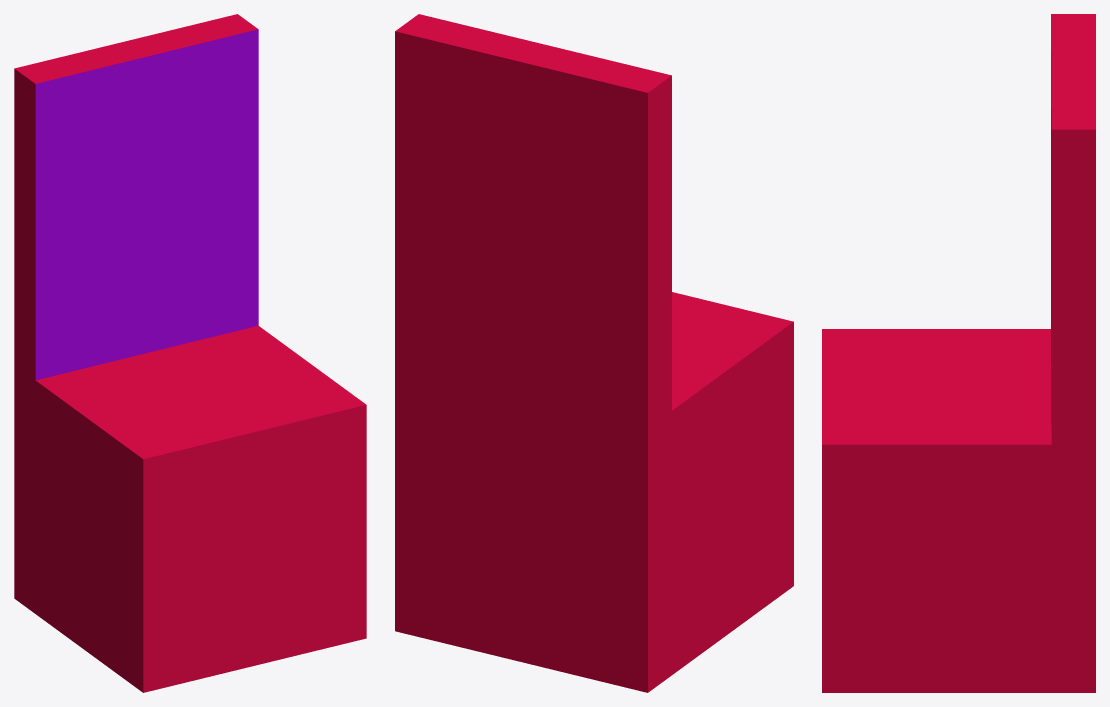
The model's file is GothChair.fbx.
3 views of the same model, side by side, from view 1: azimuth 30°, elevation 25°; view 2: azimuth 150°, elevation 25°; view 3: azimuth 270°, elevation 25° (orthographic). The views are drawn at different scales.
Parts seen in each view (by area): view 1: Cube; view 2: Cube; view 3: Cube.
Part boxes in pixels (x1,y1,x2,y2): Cube: [14, 14, 366, 692]; Cube: [395, 14, 793, 692]; Cube: [822, 14, 1095, 692].
Bounding box in the file's own units: 45.55 × 45.55 × 103.
